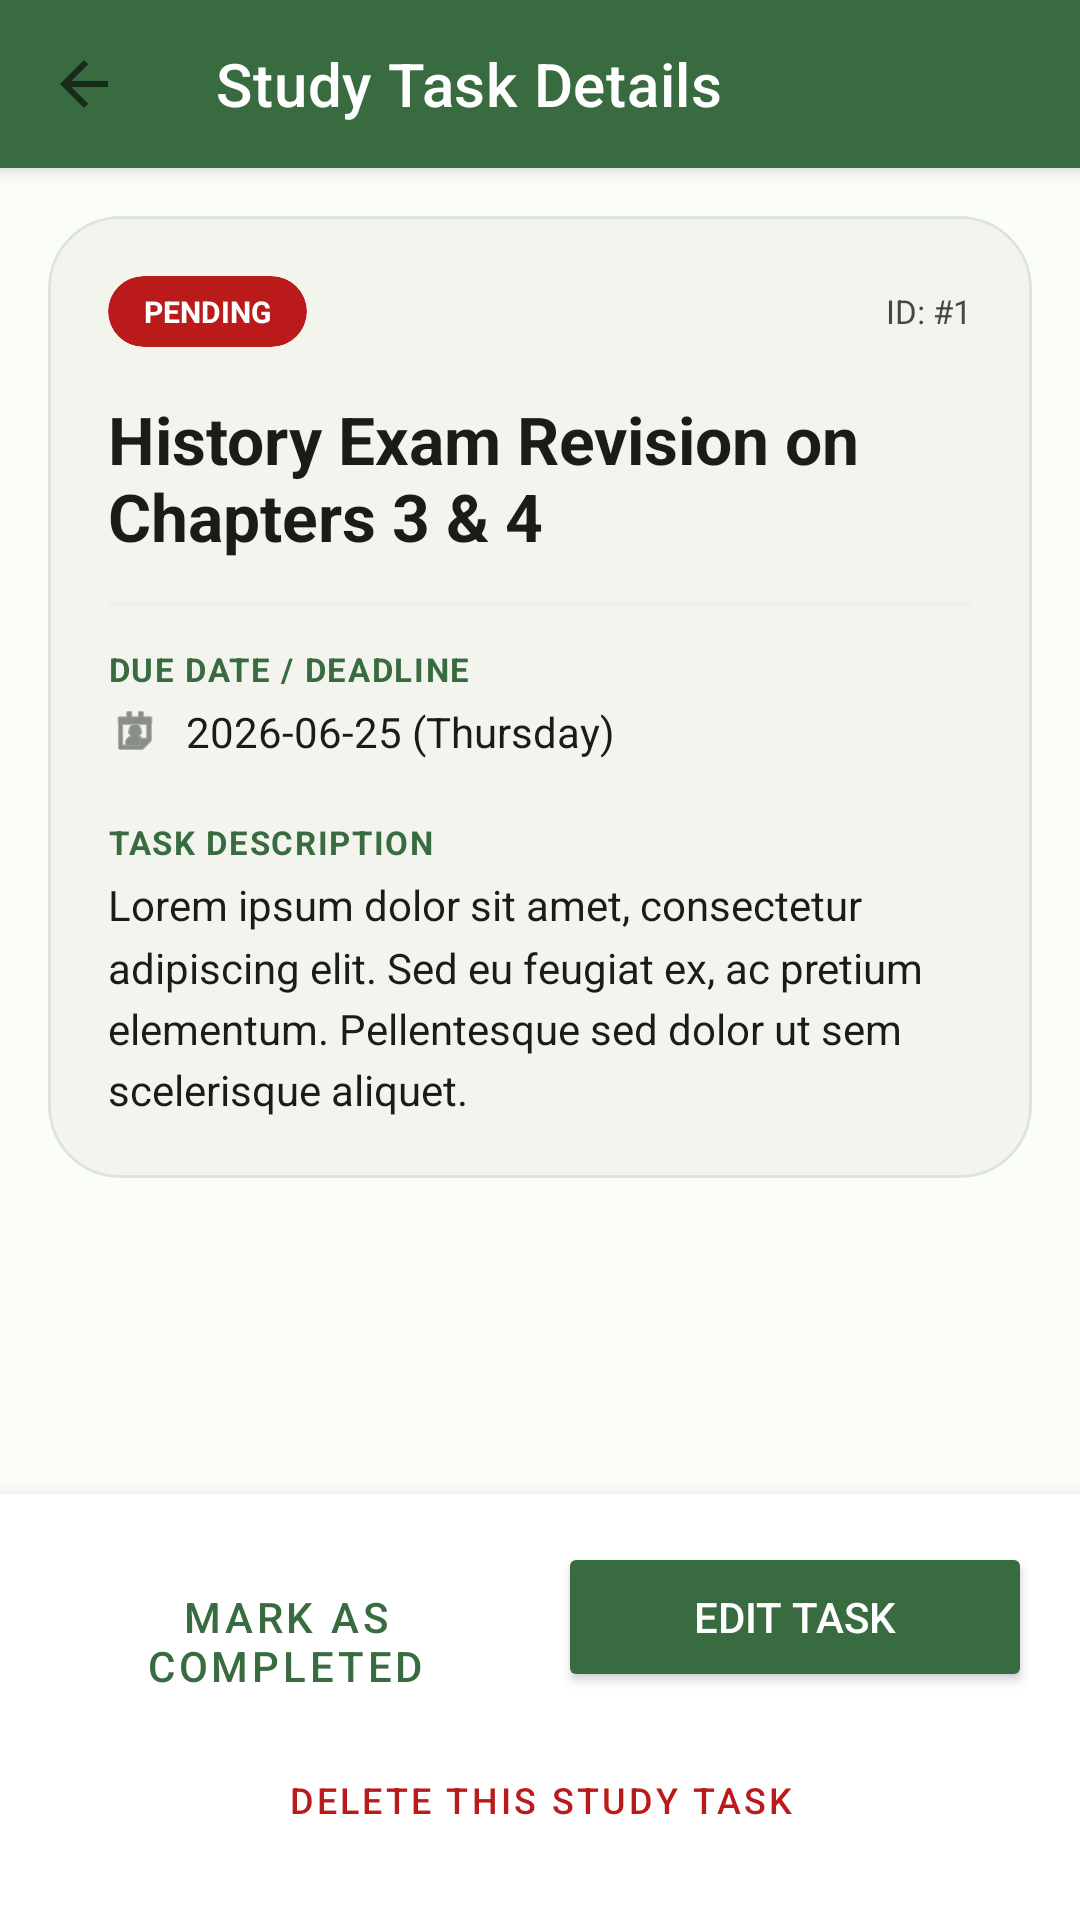

Icon click points for this 1080 × 1920 phone screenshot, format (x=x, y=y):
calendar: (x=135, y=730)
